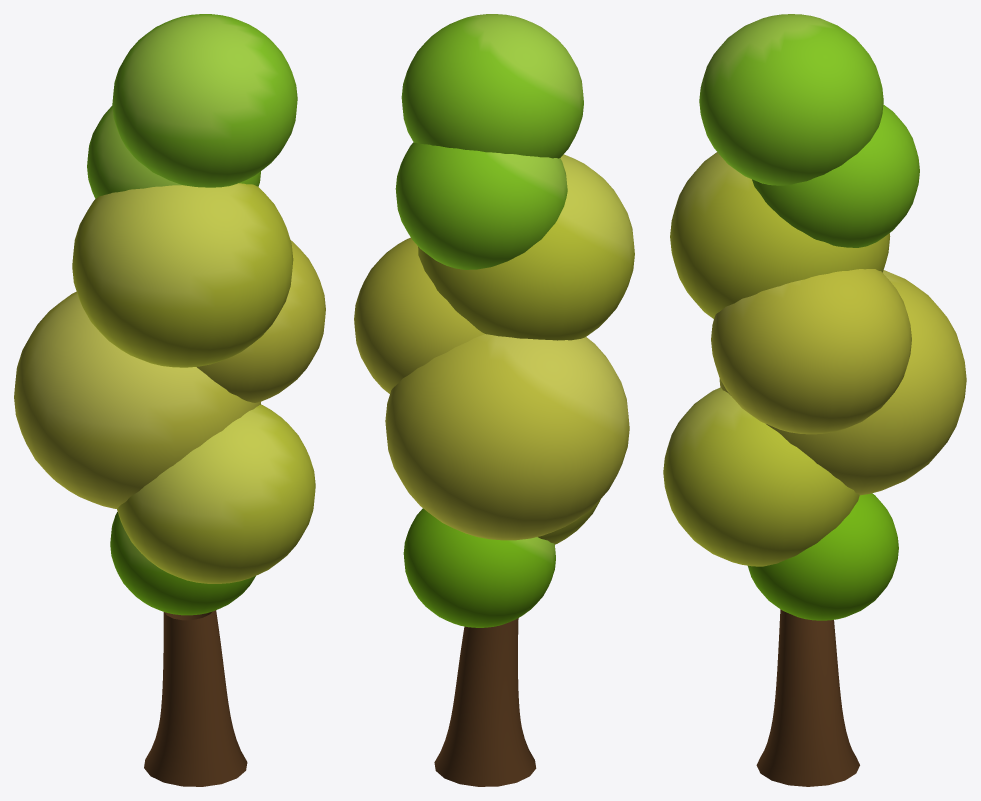
File: tall-tree-4.obj
3 renders of one model, left to right at view 1: azimuth 30°, elevation 25°; view 2: azimuth 150°, elevation 25°; view 3: azimuth 270°, elevation 25°, orthographic.
Parts seen in each view (by area): view 1: tree; view 2: tree; view 3: tree.
Boxes of the visible parts, x1,y1,x2,y2 form: tree: [14, 14, 325, 786]; tree: [354, 14, 634, 786]; tree: [663, 14, 966, 786].
Size of the model in its own units: 218 by 585 by 217.
